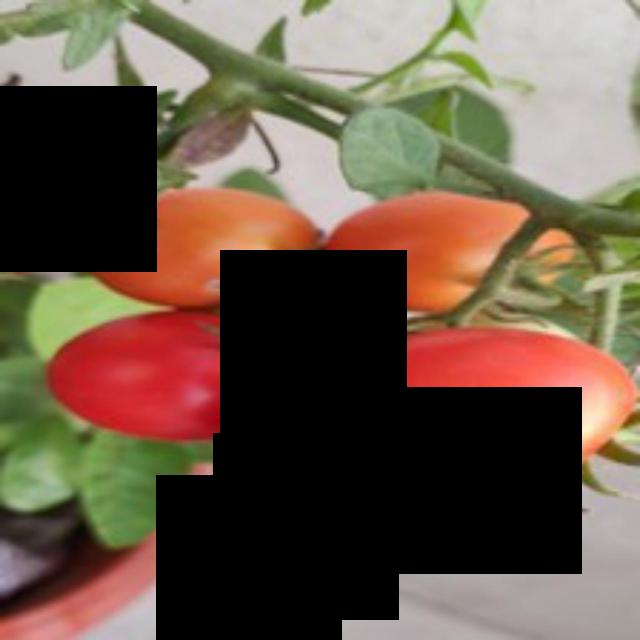tomato: (286, 317, 636, 505), (17, 291, 330, 433)
